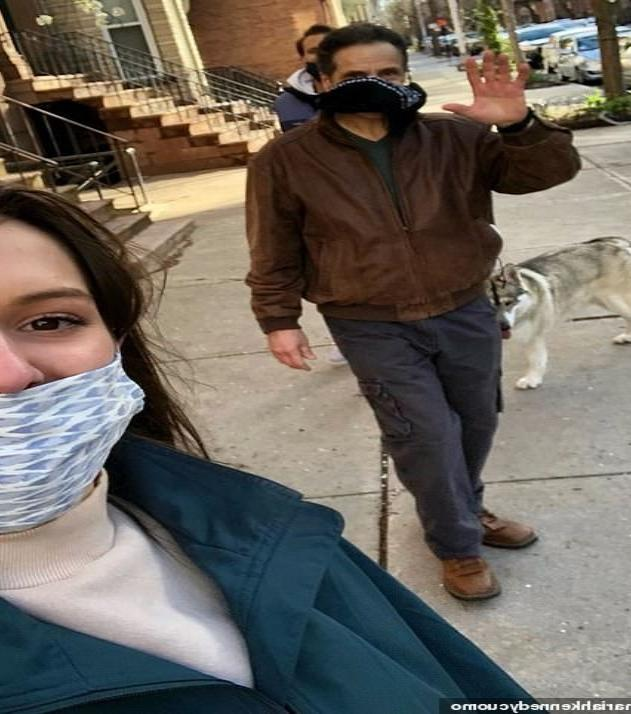mask_weared_incorrect: (1, 177, 148, 532)
